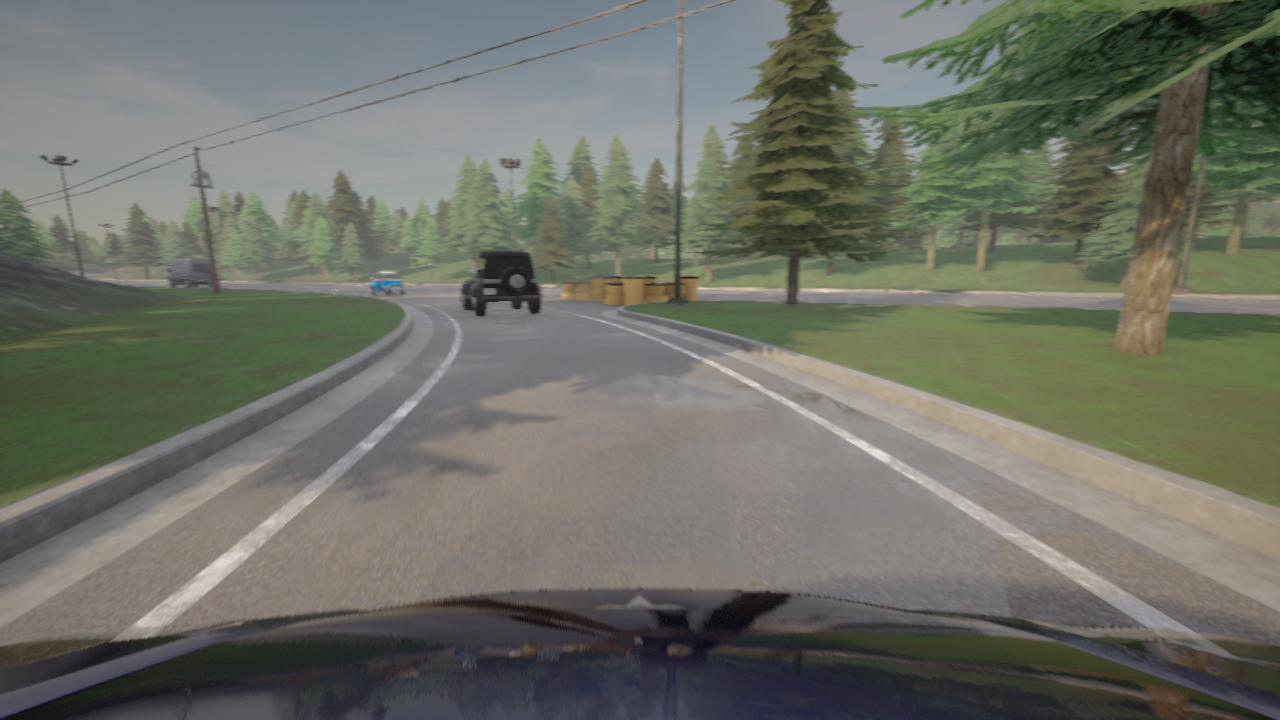cyclist: (0, 588, 1279, 719), (461, 249, 541, 316), (167, 259, 212, 287), (370, 271, 403, 295)
